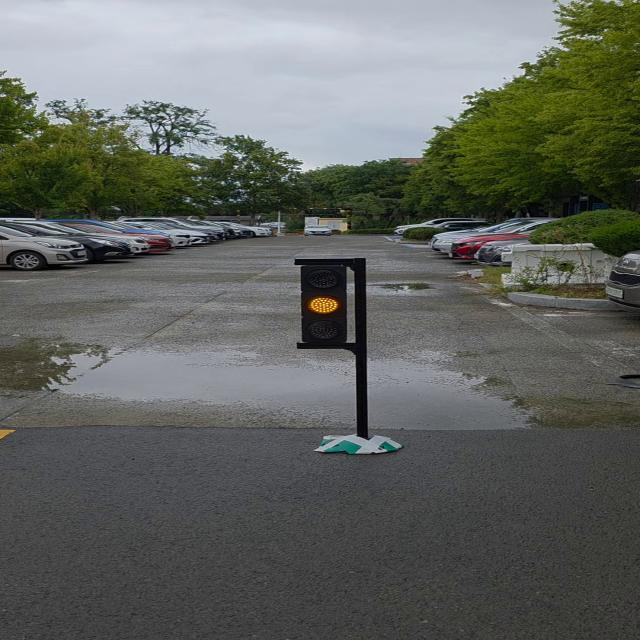yellow: (300, 257, 356, 345)
